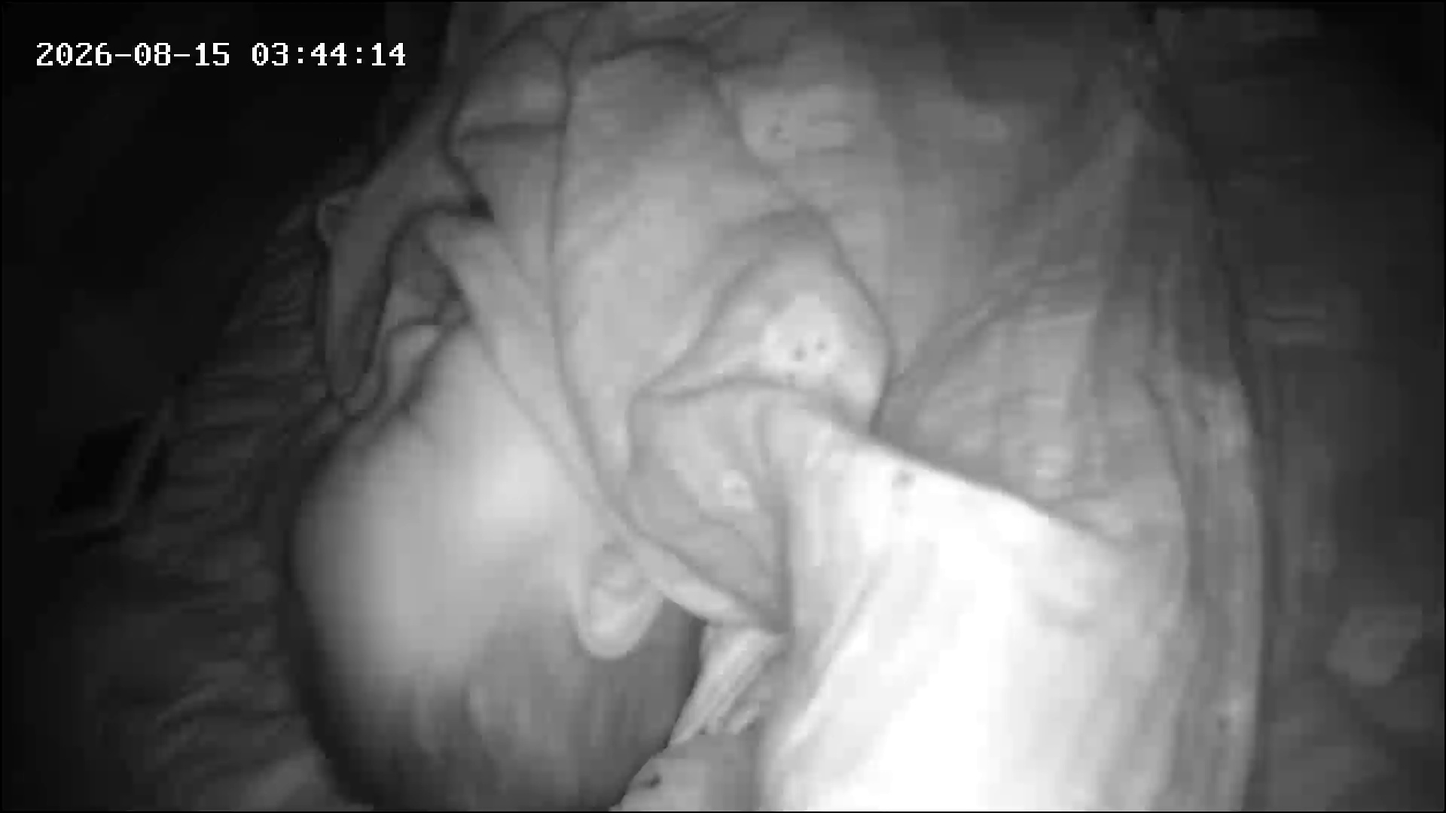baby_face: (272, 313, 758, 810)
